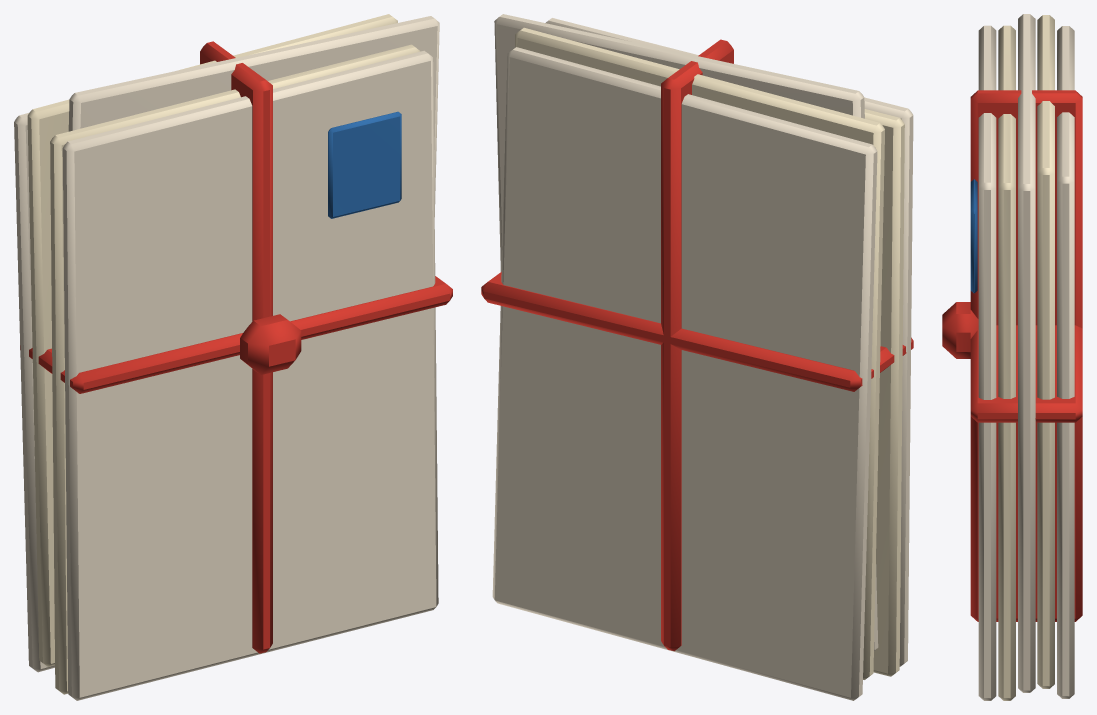
File: letters.glb
The picture shows the model from 3 angles, left to right: view 1: azimuth 30°, elevation 25°; view 2: azimuth 150°, elevation 25°; view 3: azimuth 270°, elevation 25°; orthographic projection. The views are drawn at different scales.
Parts seen in each view (by area): view 1: Letters Paper, Letters Fabric red, Letters Stamp; view 2: Letters Paper, Letters Fabric red; view 3: Letters Paper, Letters Fabric red, Letters Stamp.
Boxes of the visible parts, box(x1,y1,x2,y2) form: Letters Paper: box(14, 14, 439, 700); Letters Fabric red: box(20, 41, 452, 653); Letters Stamp: box(328, 111, 401, 218); Letters Paper: box(492, 14, 913, 700); Letters Fabric red: box(481, 39, 913, 651); Letters Paper: box(978, 14, 1074, 700); Letters Fabric red: box(942, 90, 1082, 621); Letters Stamp: box(970, 179, 977, 293).
Bounding box in the file's own units: 0.1202 × 0.1684 × 0.0395.
